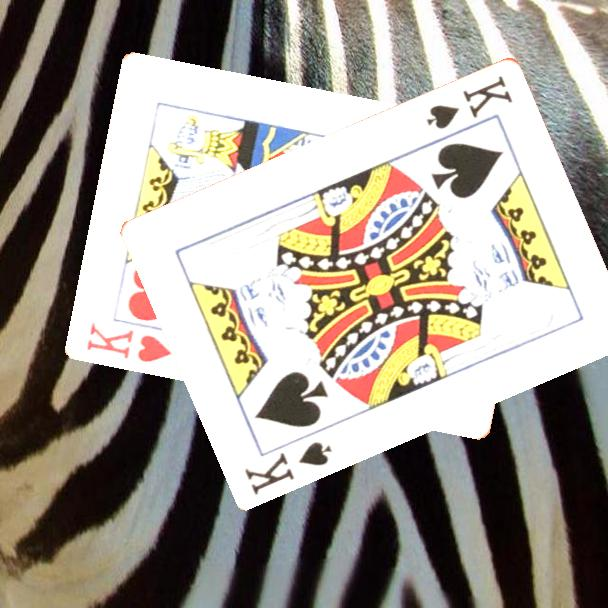h13: (84, 319, 175, 365)
s13: (241, 437, 335, 498), (423, 71, 516, 132)
